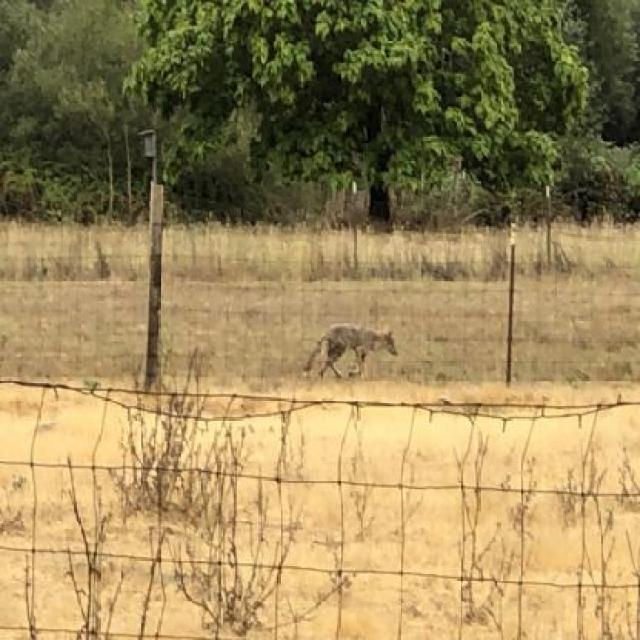Coyote: (305, 319, 402, 388)
